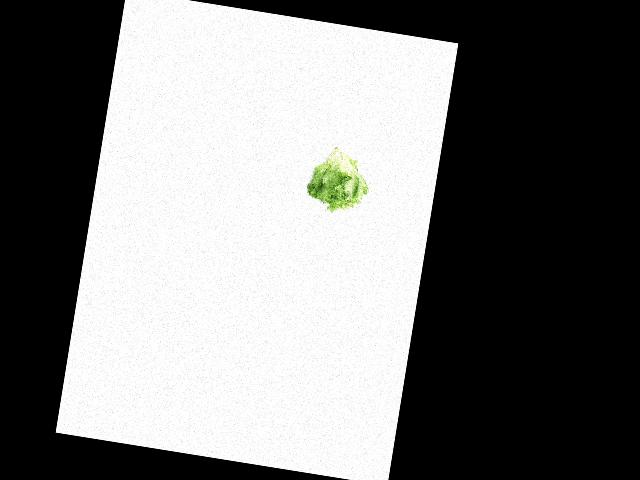lettuce: (302, 142, 376, 215)
